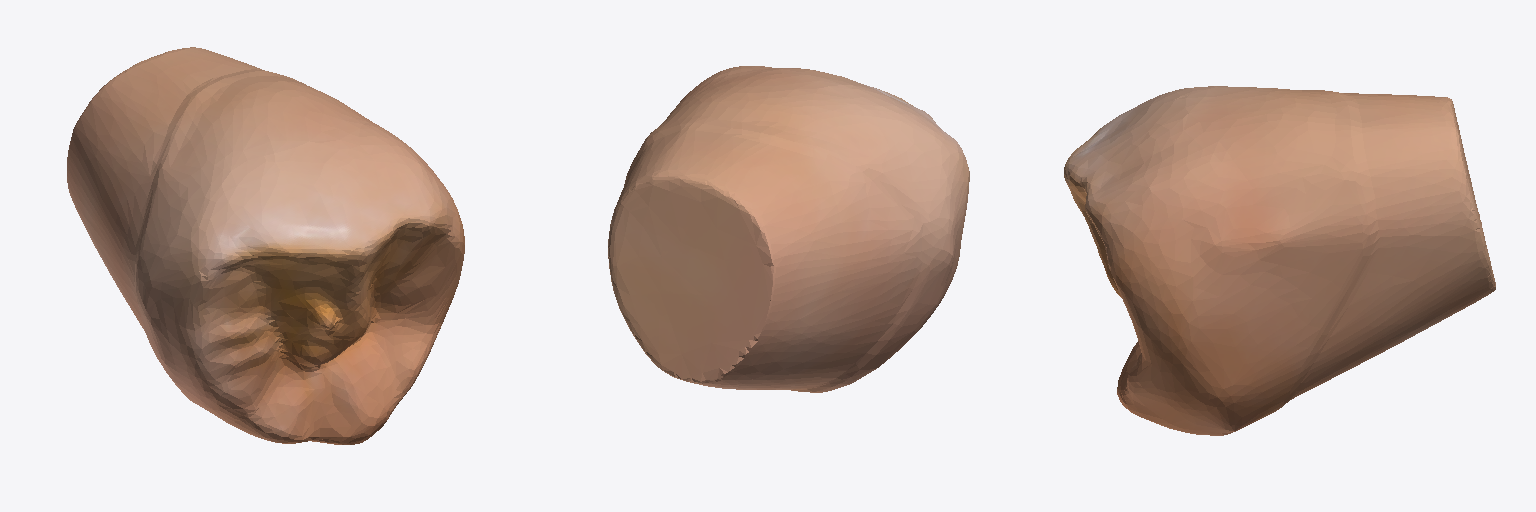
3 renders of one model, left to right at view 1: azimuth 30°, elevation 25°; view 2: azimuth 150°, elevation 25°; view 3: azimuth 270°, elevation 25°, orthographic.
Size of the model in its own units: 7.99 by 8.2 by 10.18.
1 materials, 1 textured.